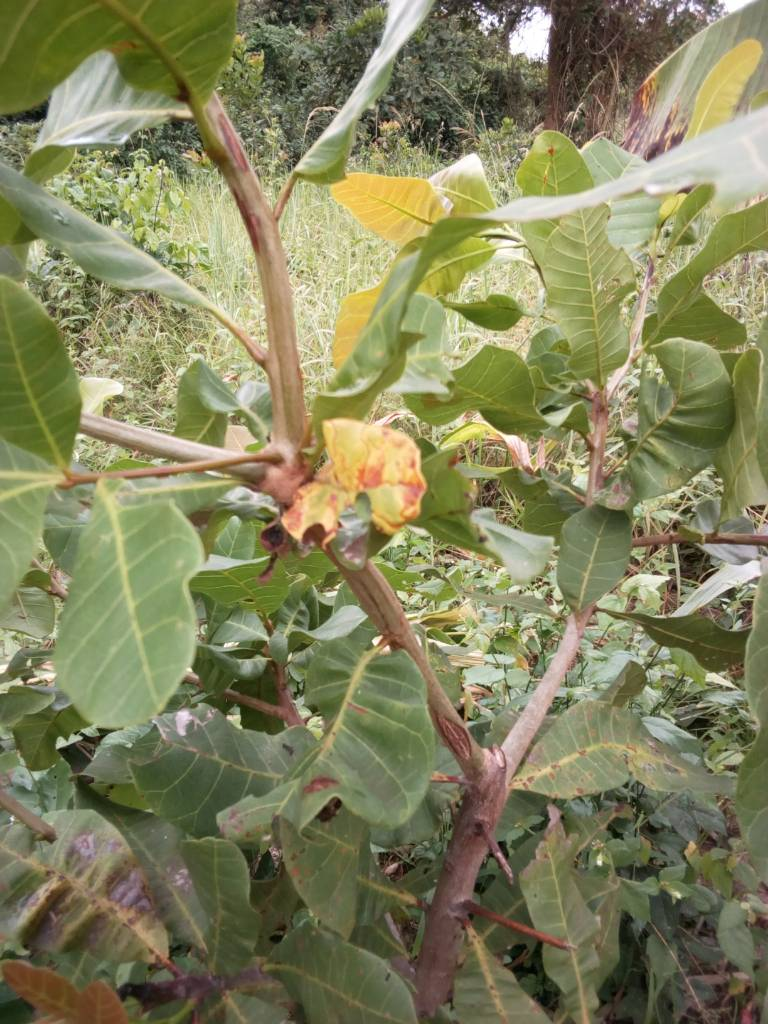Alternariose: (290, 417, 427, 544), (516, 702, 691, 794)
